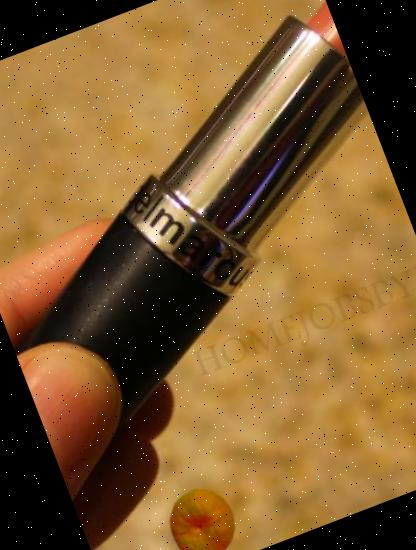Mandarine: (155, 477, 249, 550)
